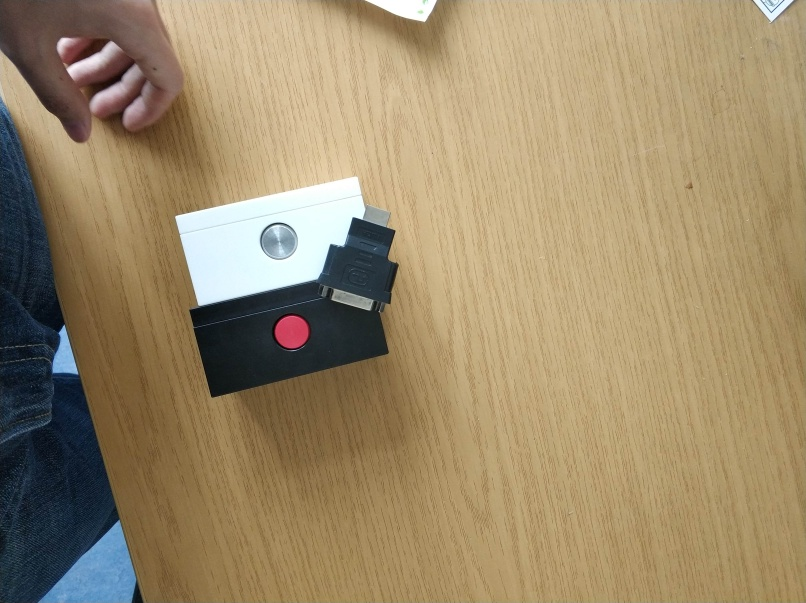black+black+red: (186, 278, 391, 401)
white+white+silver: (175, 174, 371, 308)
